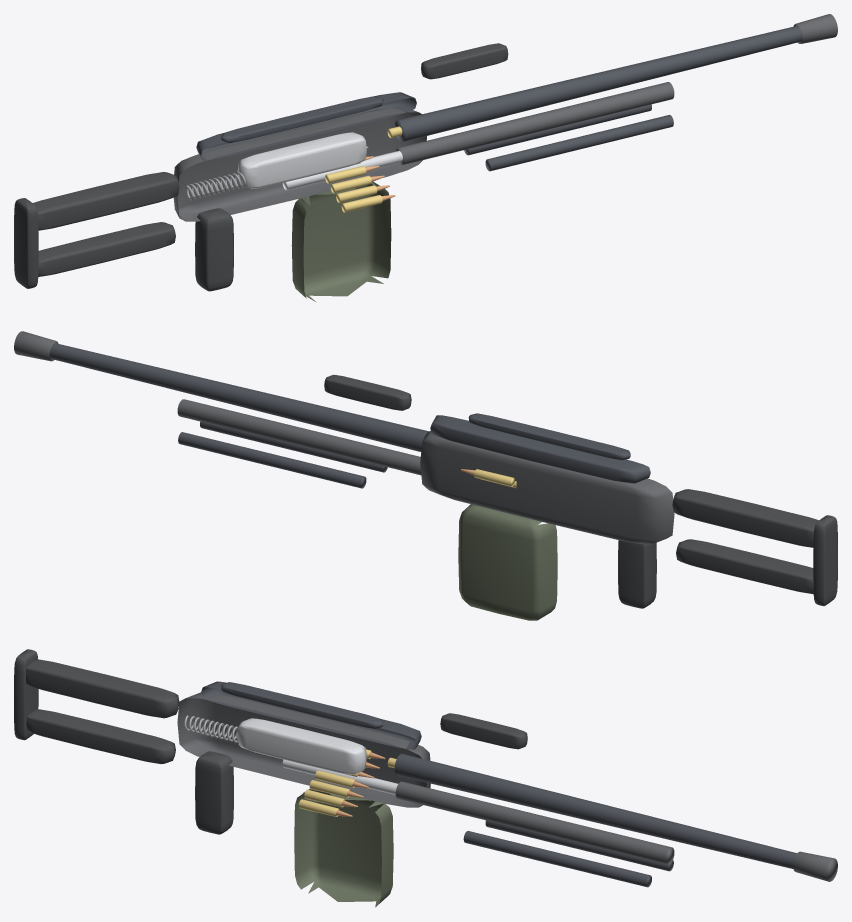
Rendered from km762-cut.glb.
The picture shows the model from 3 angles, top to bottom: view 1: azimuth 30°, elevation 25°; view 2: azimuth 150°, elevation 25°; view 3: azimuth 330°, elevation 25°; orthographic projection.
Visible parts, largest first — view 1: ammo_box_100rd, receiver_body, barrel_658mm, gas_cylinder, buttstock_top, bolt_carrier_km, buttstock_bot, pistol_grip, bipod_leg_R, top_picatinny, buttpad, top_feed_cover (+5 smaller); view 2: receiver_body, ammo_box_100rd, barrel_658mm, top_feed_cover, gas_cylinder, buttstock_top, buttstock_bot, bipod_leg_L, pistol_grip, top_picatinny, buttpad, carry_handle (+2 smaller); view 3: ammo_box_100rd, receiver_body, barrel_658mm, gas_cylinder, buttstock_top, bolt_carrier_km, buttstock_bot, pistol_grip, bipod_leg_R, top_picatinny, top_feed_cover, carry_handle (+5 smaller).
Boxes of the visible parts, x1=… form: ammo_box_100rd: x1=291, y1=181, x2=391, y2=302; receiver_body: x1=173, y1=107, x2=426, y2=221; barrel_658mm: x1=394, y1=26, x2=802, y2=141; gas_cylinder: x1=396, y1=82, x2=674, y2=165; buttstock_top: x1=33, y1=172, x2=179, y2=230; bolt_carrier_km: x1=237, y1=132, x2=366, y2=188; buttstock_bot: x1=38, y1=222, x2=175, y2=276; pistol_grip: x1=195, y1=208, x2=233, y2=291; bipod_leg_R: x1=485, y1=115, x2=673, y2=171; top_picatinny: x1=221, y1=96, x2=383, y2=142; buttpad: x1=14, y1=198, x2=38, y2=288; top_feed_cover: x1=196, y1=92, x2=416, y2=160; receiver_body: x1=420, y1=431, x2=674, y2=544; ammo_box_100rd: x1=458, y1=504, x2=557, y2=620; barrel_658mm: x1=49, y1=343, x2=428, y2=451; top_feed_cover: x1=430, y1=415, x2=650, y2=483; gas_cylinder: x1=177, y1=399, x2=421, y2=475; buttstock_top: x1=672, y1=489, x2=818, y2=547; buttstock_bot: x1=676, y1=539, x2=813, y2=594; bipod_leg_L: x1=178, y1=432, x2=366, y2=488; pistol_grip: x1=618, y1=540, x2=656, y2=608; top_picatinny: x1=468, y1=413, x2=630, y2=460; buttpad: x1=813, y1=515, x2=837, y2=606; carry_handle: x1=324, y1=374, x2=411, y2=410; ammo_box_100rd: x1=294, y1=789, x2=393, y2=907; receiver_body: x1=177, y1=692, x2=430, y2=807; barrel_658mm: x1=394, y1=753, x2=796, y2=868; gas_cylinder: x1=395, y1=781, x2=674, y2=864; buttstock_top: x1=26, y1=659, x2=179, y2=718; bolt_carrier_km: x1=237, y1=718, x2=366, y2=774; buttstock_bot: x1=26, y1=709, x2=175, y2=764; pistol_grip: x1=195, y1=751, x2=233, y2=834; bipod_leg_R: x1=463, y1=831, x2=651, y2=887; top_picatinny: x1=221, y1=682, x2=383, y2=728; top_feed_cover: x1=201, y1=681, x2=421, y2=749; carry_handle: x1=440, y1=713, x2=527, y2=749.
Size of the model in its own units: 1.2 by 0.2835 by 0.11.
